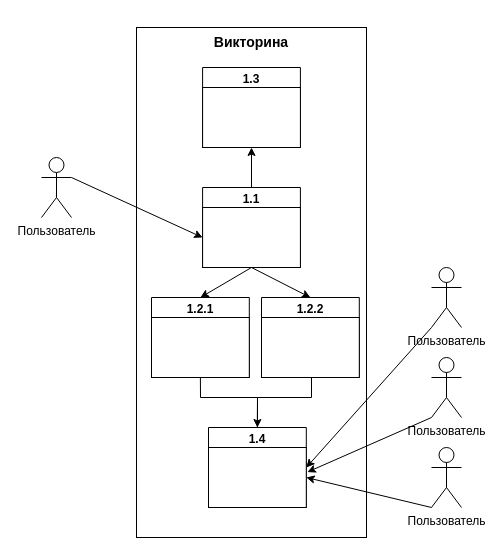
The diagram is 502 pixels wide and 555 high, and some of its shapes have lost their labels. Here are the shapes that lost their labels. From the top down, the centre of each, then its label:
At (x=251, y=117): "Переход в профиль".
At (x=251, y=237): "Вход Регистрация".
At (x=199, y=347): "Выбор викторины".
At (x=309, y=347): "Создание викторины".
At (x=257, y=477): "Участие в викторине (игра)".
